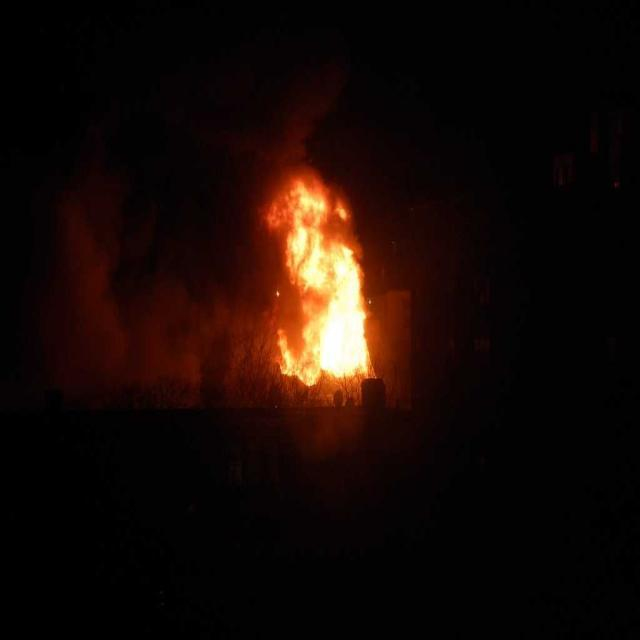Fire: (262, 147, 383, 400)
